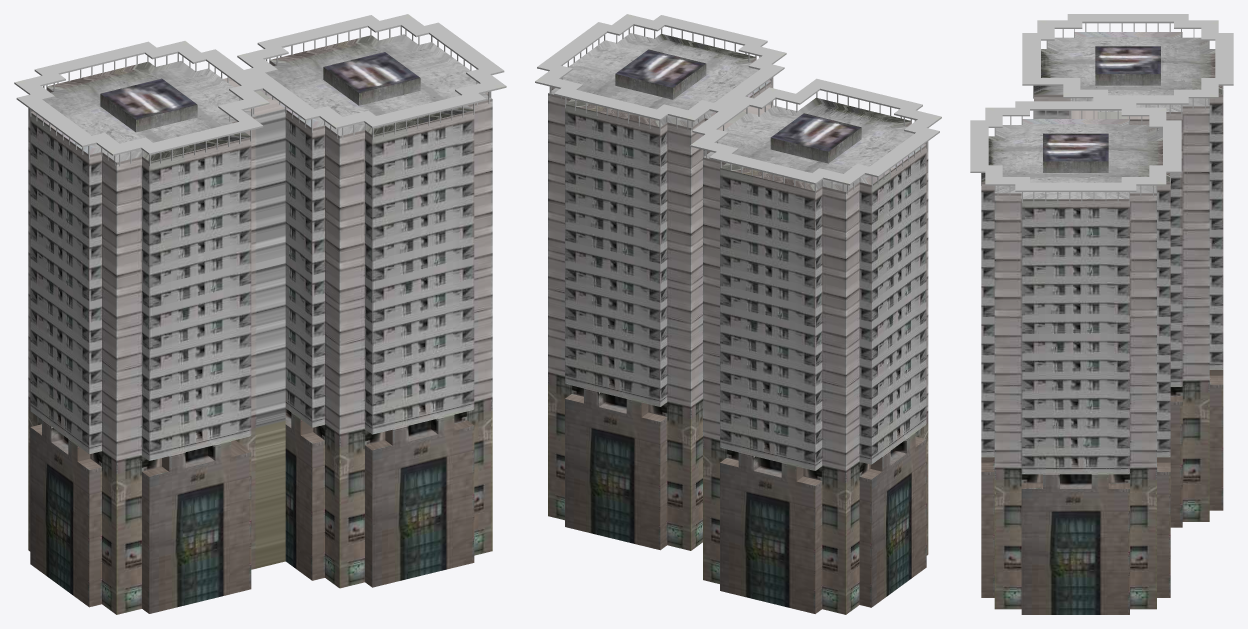
3 renders of one model, left to right at view 1: azimuth 30°, elevation 25°; view 2: azimuth 150°, elevation 25°; view 3: azimuth 270°, elevation 25°, orthographic. The views are drawn at different scales.
Visible parts, largest first — view 1: HN883___N07_b1_2_chung_cu_thanh_binh; view 2: HN883___N07_b1_2_chung_cu_thanh_binh; view 3: HN883___N07_b1_2_chung_cu_thanh_binh.
Part boxes in pixels (bbox=[...]): HN883___N07_b1_2_chung_cu_thanh_binh: bbox=[14, 14, 506, 614]; HN883___N07_b1_2_chung_cu_thanh_binh: bbox=[535, 14, 941, 614]; HN883___N07_b1_2_chung_cu_thanh_binh: bbox=[970, 14, 1233, 614].
Size of the model in its own units: 58.73 by 66.55 by 37.03.
1 material, 1 textured.
